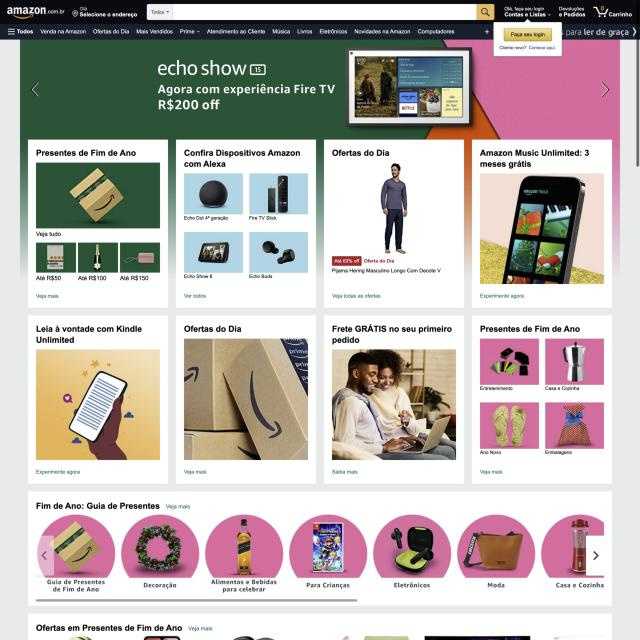input: (146, 3, 494, 21)
logo: (5, 5, 66, 20)
navigation: (6, 27, 455, 36)
